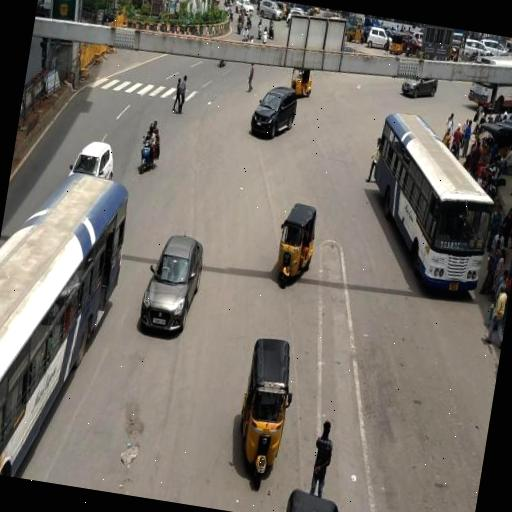helmet: (136, 114, 165, 174)
